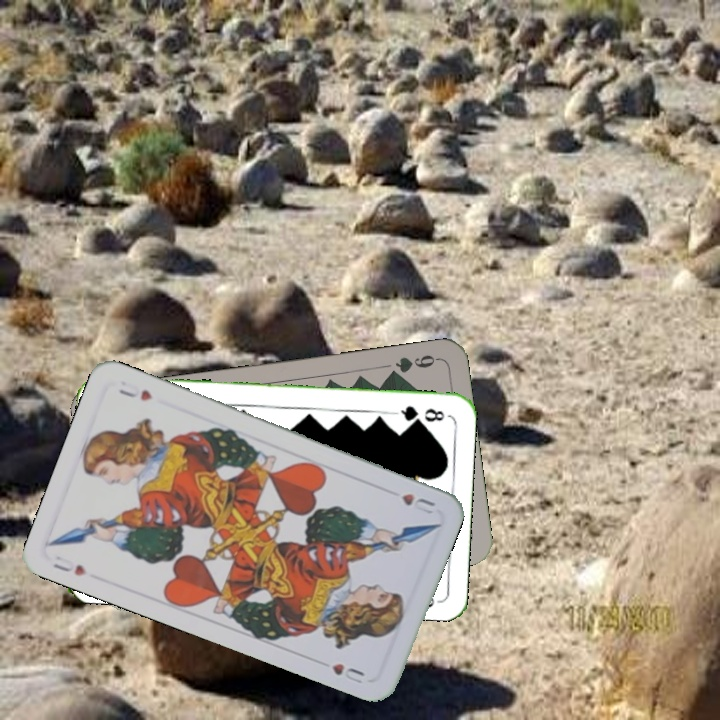G8: (391, 402, 447, 425)
G9: (384, 350, 441, 380)
HU: (397, 489, 438, 517), (49, 551, 89, 579)
